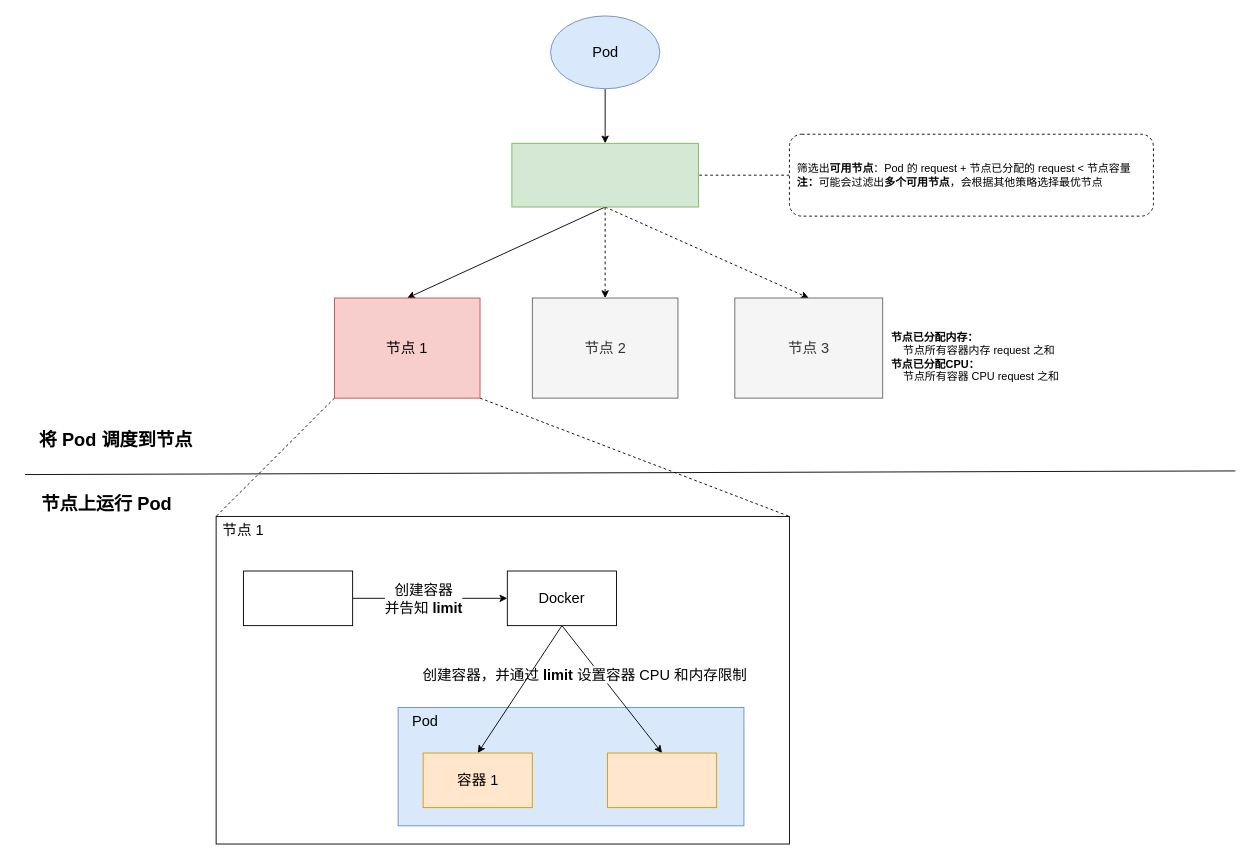
This 1252x860 diagram has some shape labels left out. The shapes that lost their labels are listed below. From the top down, each one's box as (x1, y1, x2, y2) in pixels, then its label:
(511, 142, 698, 207): 调度器 kube-scheduler
(243, 570, 353, 626): kubelet
(607, 752, 717, 808): 容器 2
